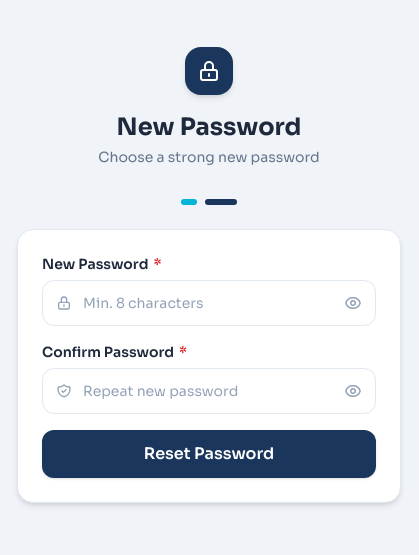
Test case: ResetPasswordView › resetPassword failure shows generic fallback
The width and height of the screenshot is (419, 555).
Type "longenough" into the password field with placeholder "Min. 8 characters" at {"x": 209, "y": 303}, box 42,280 -> 376,326
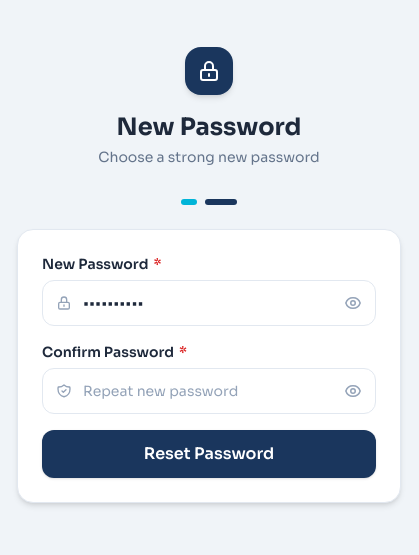
Type "longenough" into the password field with placeholder "Repeat new password" at {"x": 209, "y": 391}, box 42,368 -> 376,414
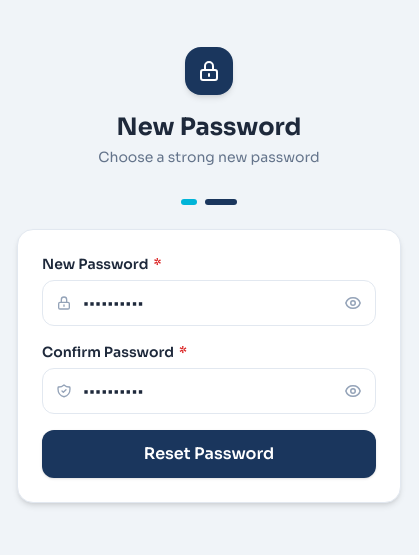
Submit the form, box 42,254 -> 376,478
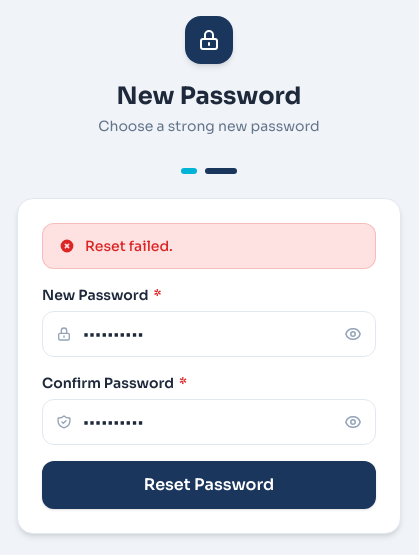
Expected: the text "Reset failed." is shown, 85,236 -> 173,256
